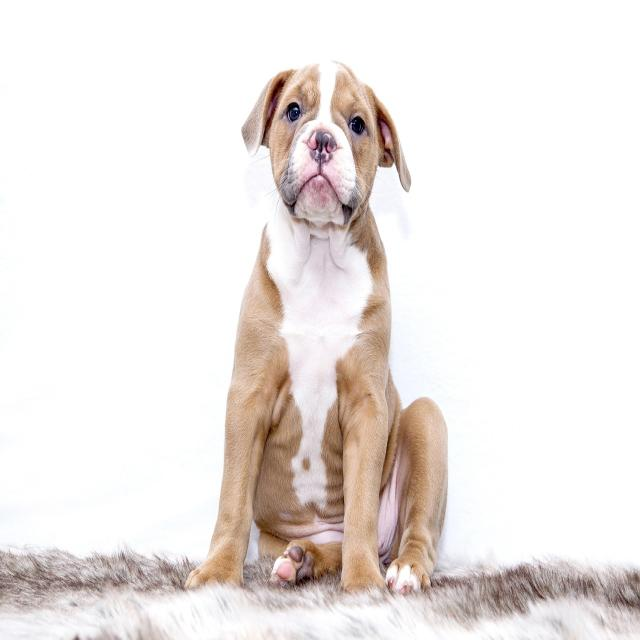dog: (179, 62, 456, 595)
